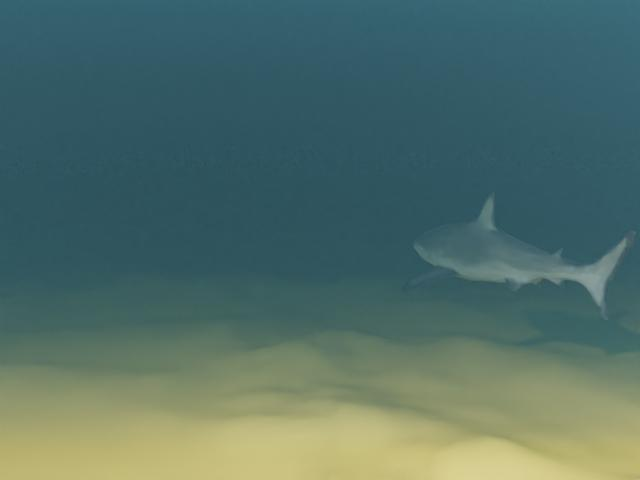Carribean Shark.001: (401, 191, 635, 320)
